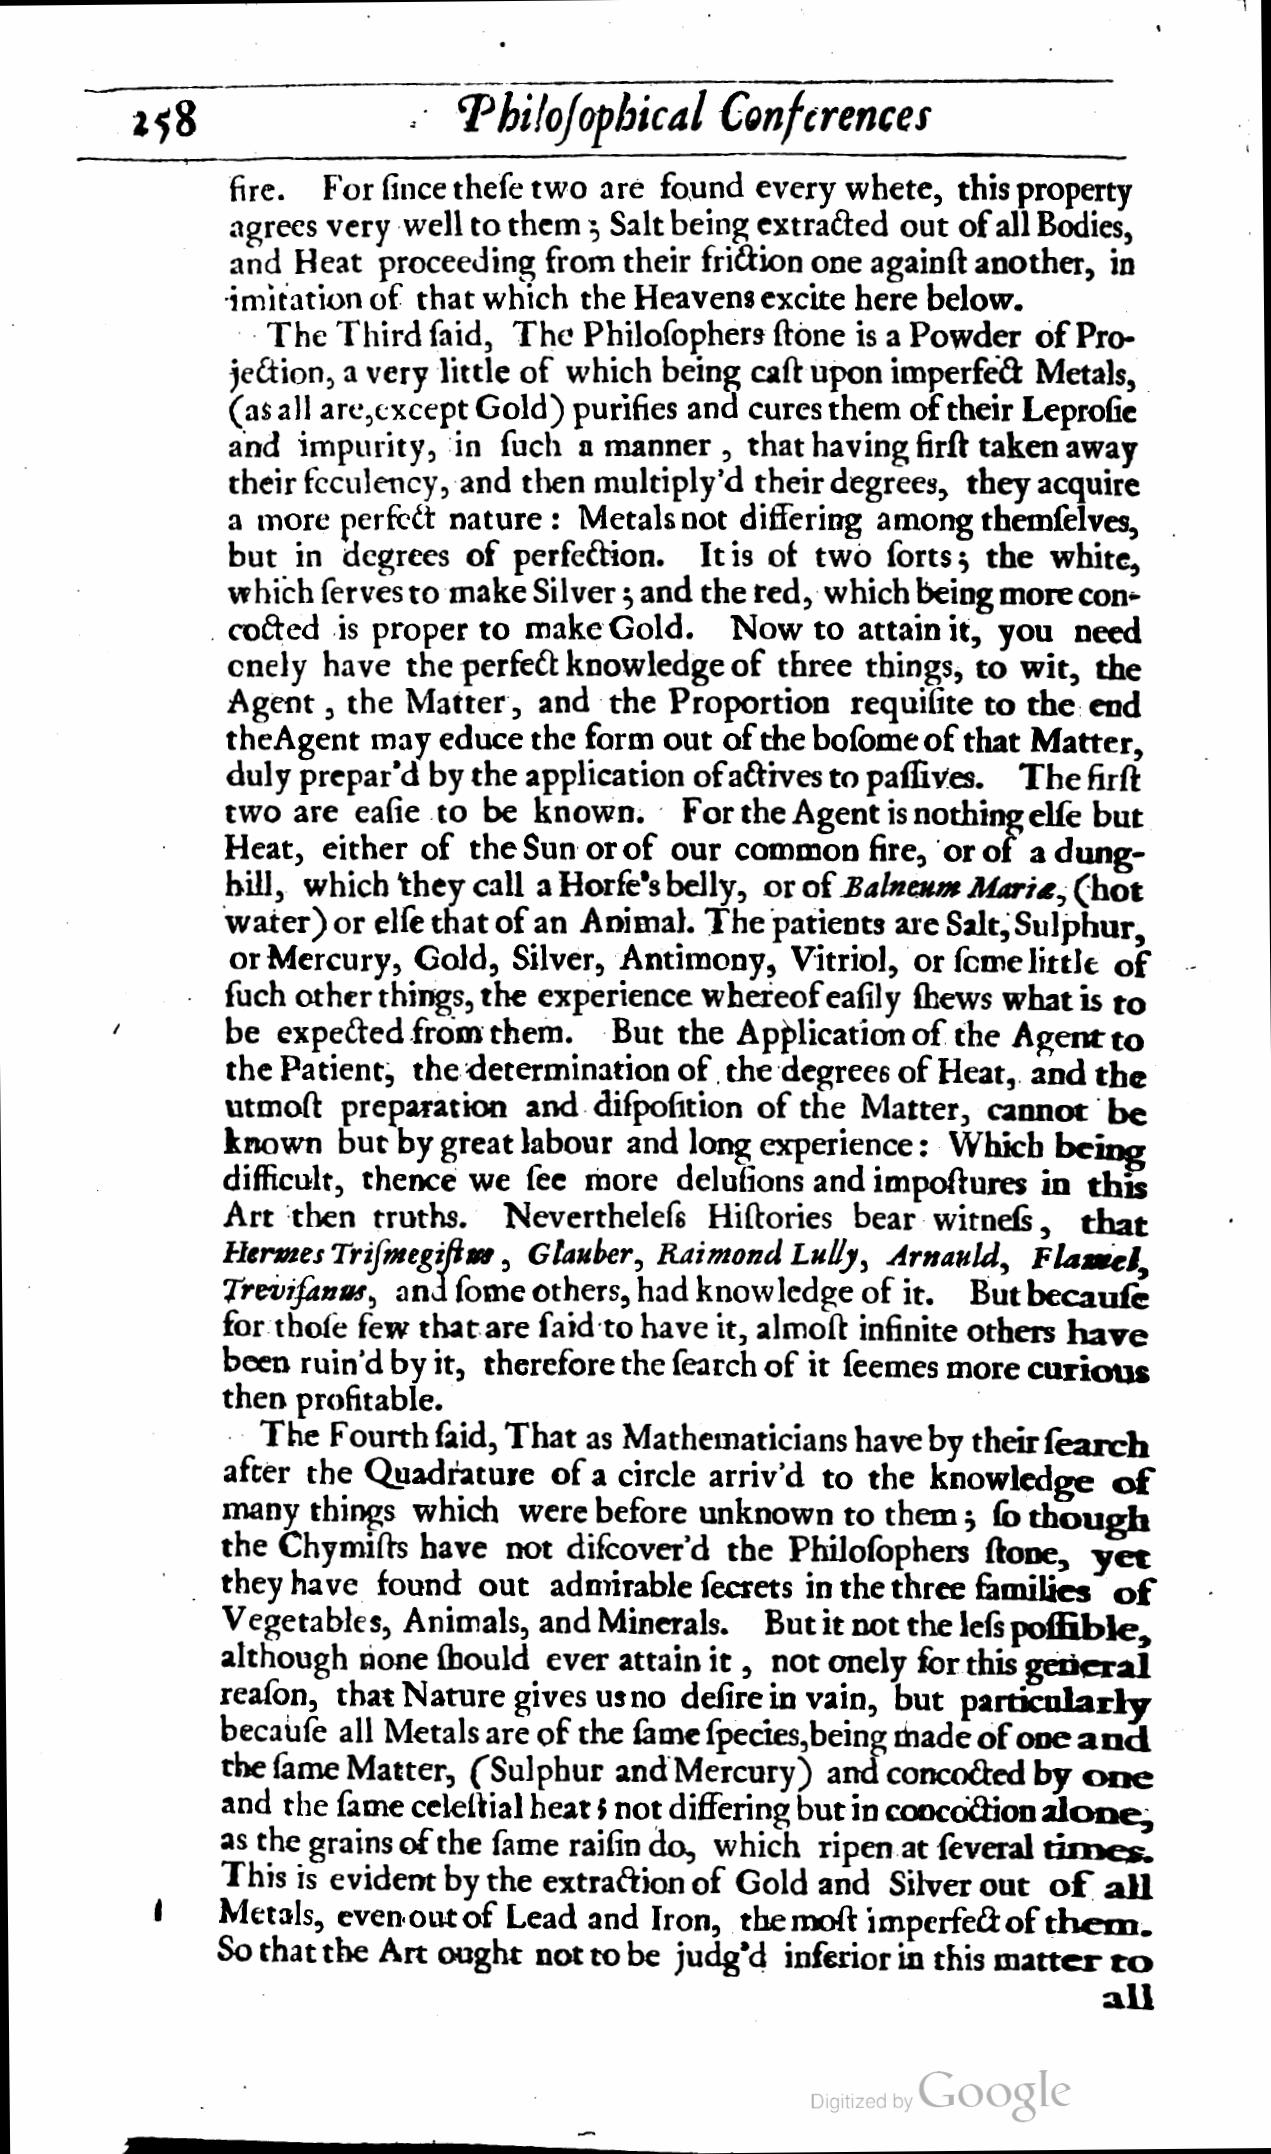bottom_p: (224, 166, 1139, 315)
catchword: (1095, 1979, 1161, 2013)
full_p: (215, 313, 1156, 1420)
header: (454, 86, 937, 153)
page_num: (124, 94, 204, 151)
top_p: (213, 1417, 1162, 1979)
